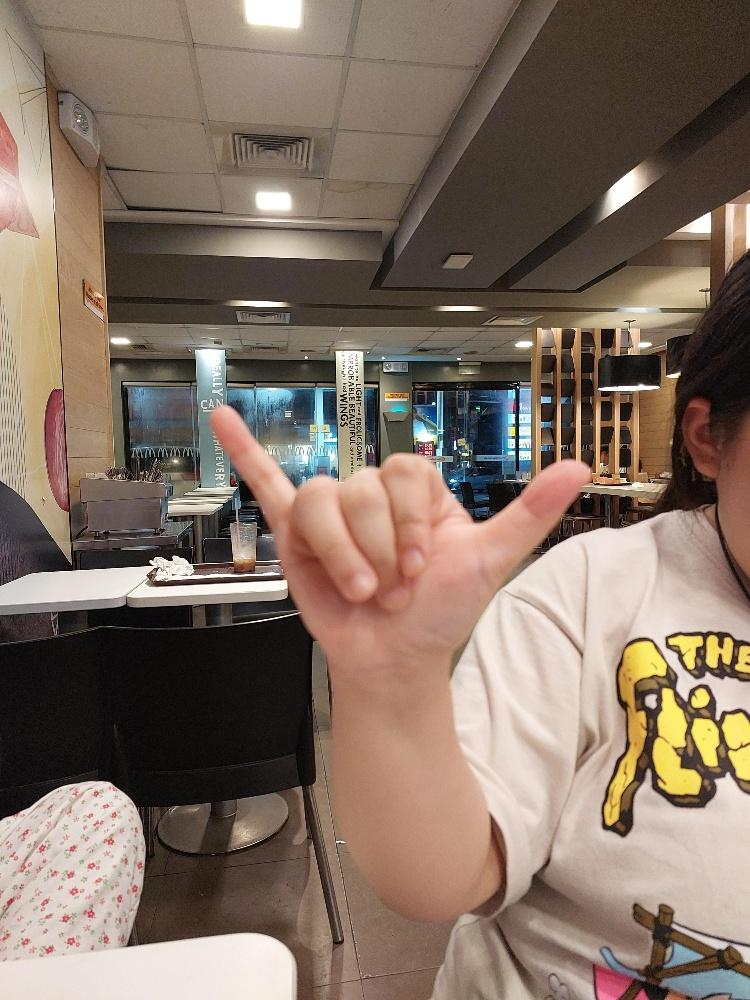y: (206, 400, 593, 679)
